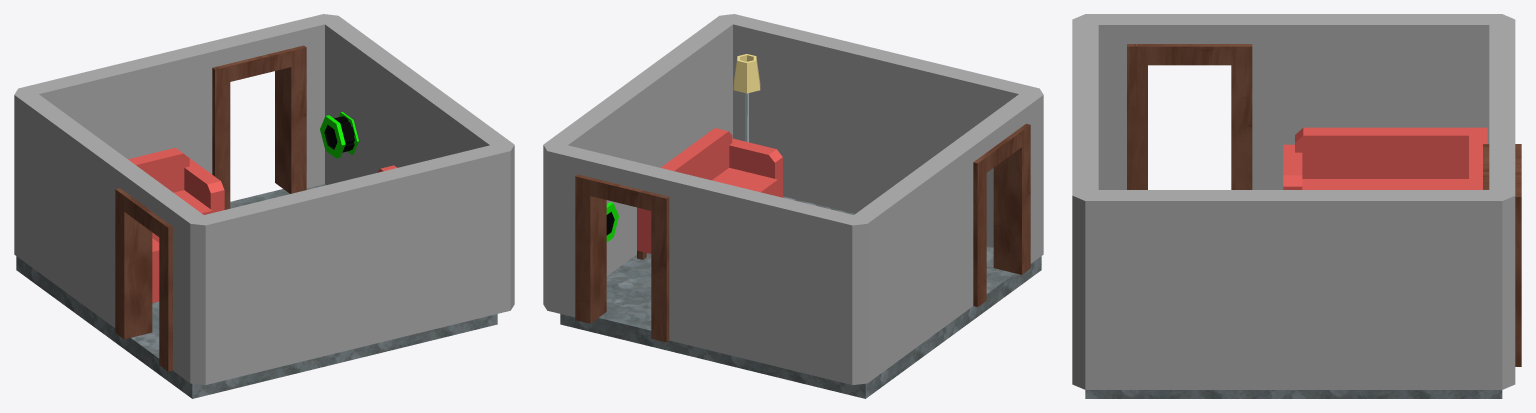
File: Level_1_1-Unlocked.fbx
3 views of the same model, side by side, from view 1: azimuth 30°, elevation 25°; view 2: azimuth 150°, elevation 25°; view 3: azimuth 270°, elevation 25° (orthographic). The views are drawn at different scales.
Visible parts, largest first — view 1: mergedBlocks; view 2: mergedBlocks; view 3: mergedBlocks.
Boxes of the visible parts, x1=… form: mergedBlocks: x1=14, y1=14, x2=514, y2=398; mergedBlocks: x1=543, y1=14, x2=1043, y2=398; mergedBlocks: x1=1072, y1=14, x2=1521, y2=398.
Size of the model in its own units: 43.1 by 22 by 43.1.
Materials: 9 (3 with a texture image).
